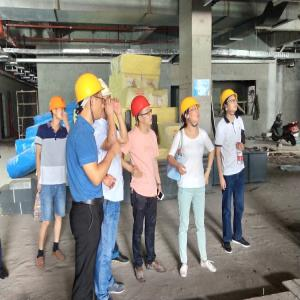red: (132, 95, 155, 130)
yellow: (75, 74, 105, 122), (180, 96, 202, 127), (220, 89, 240, 118), (48, 96, 68, 122)
